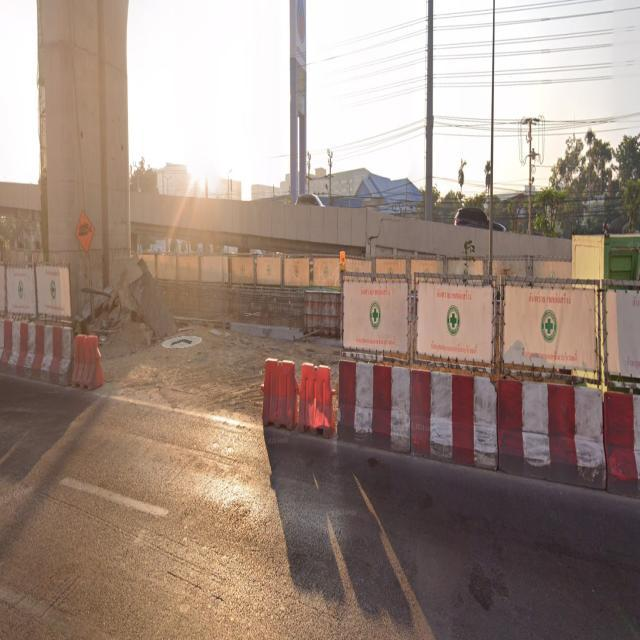fallen_object: (483, 352, 640, 502), (317, 337, 418, 459), (397, 367, 517, 469), (0, 311, 111, 398), (243, 357, 336, 443)
